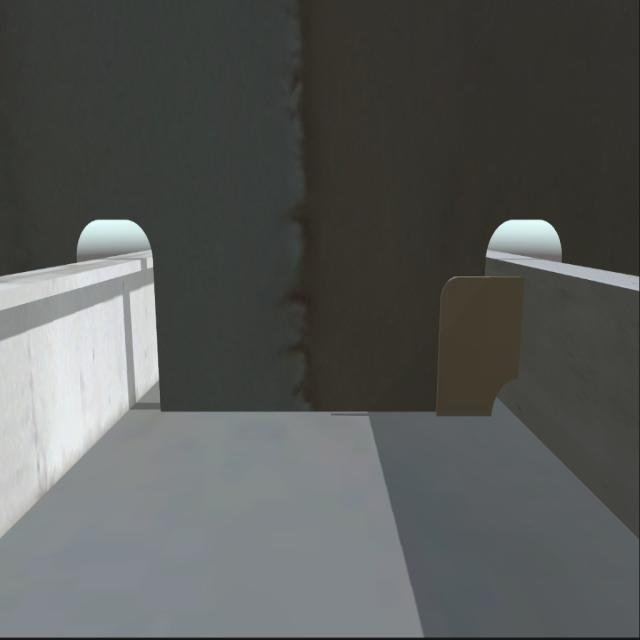fillet_hole: (483, 366, 523, 416)
fillet_yong_jeop_jang: (159, 408, 492, 419)
longi_yong_jeop_jang: (515, 279, 533, 362)
plate_CP05: (434, 279, 528, 420)
